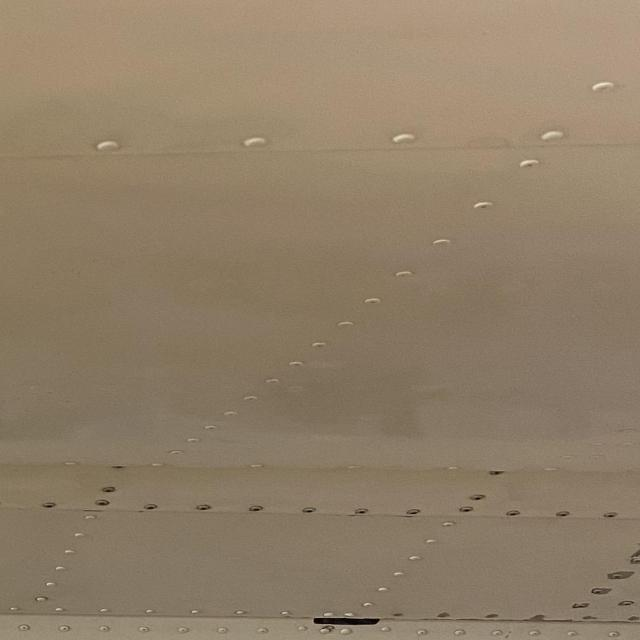Paint-off: (524, 612, 549, 623), (481, 612, 502, 622), (594, 588, 614, 596), (627, 614, 640, 623), (434, 612, 453, 618), (392, 611, 408, 618), (582, 615, 599, 621)
